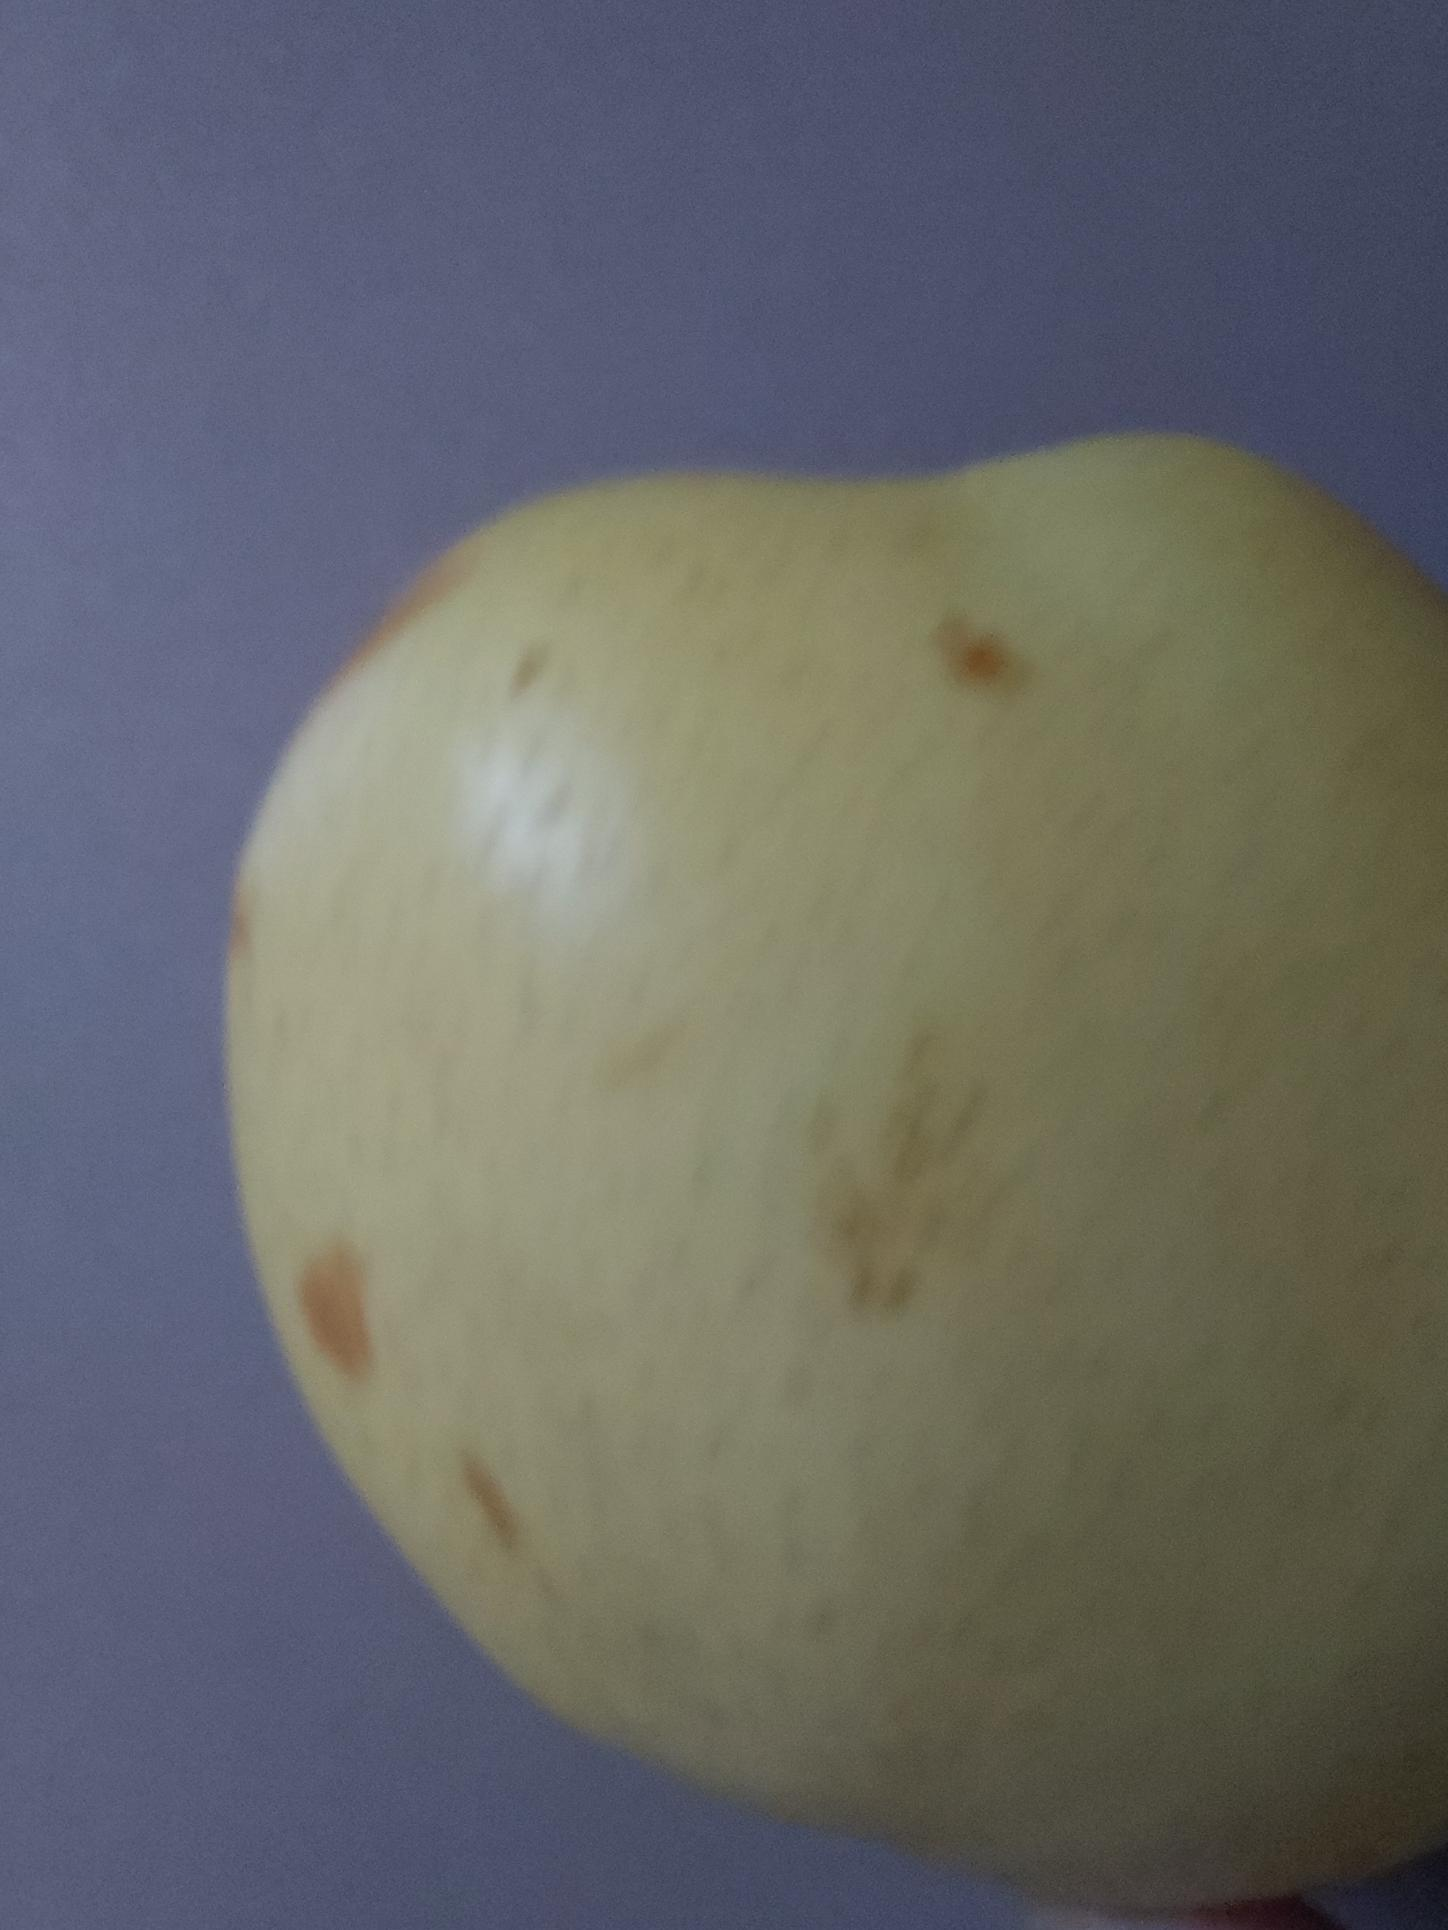Good Pear: (218, 453, 1448, 1874)
